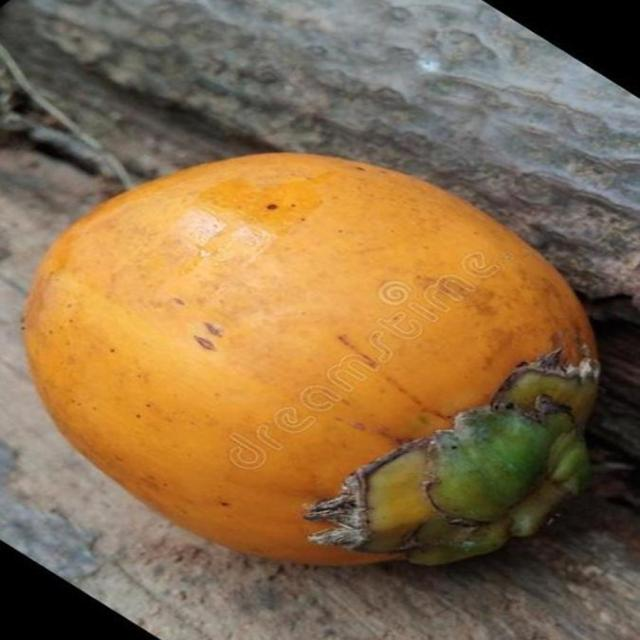good: (22, 152, 601, 570)
